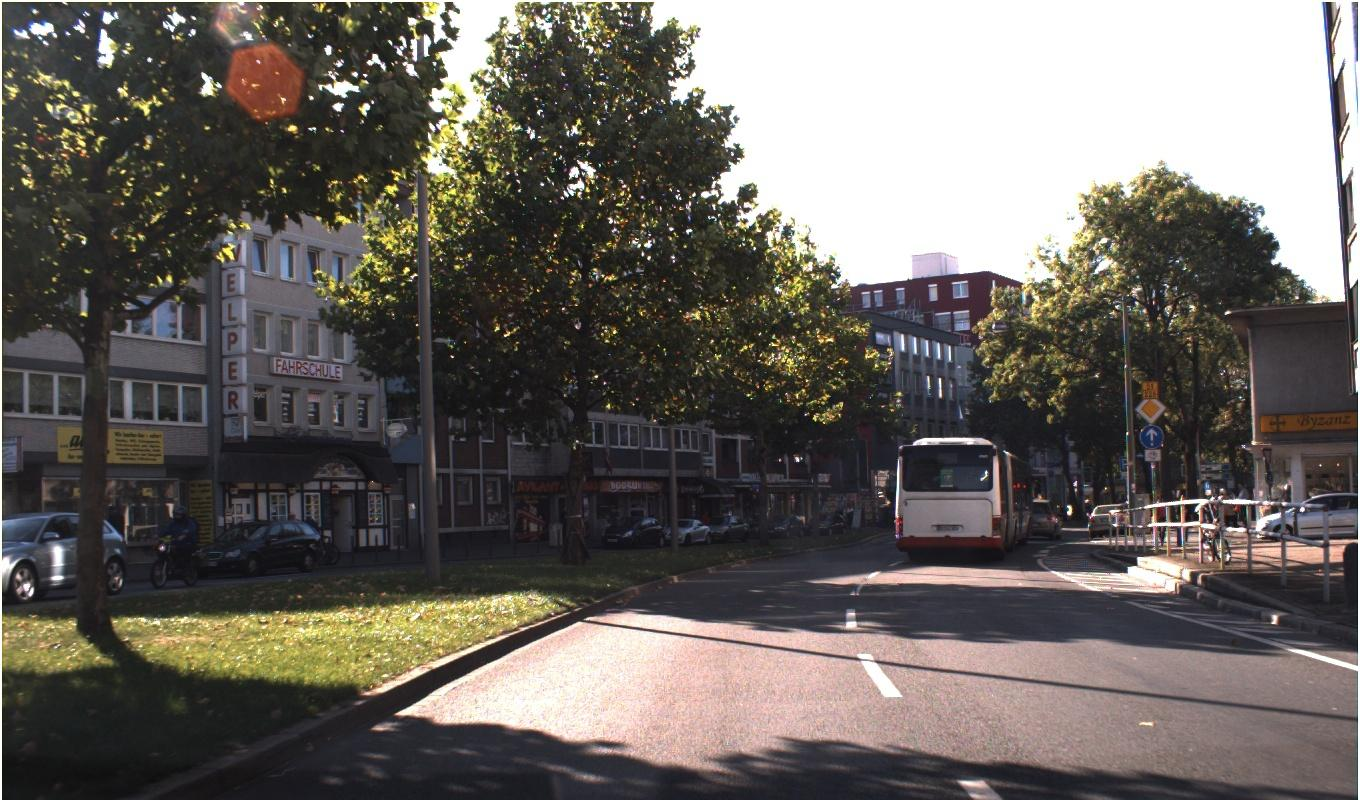priority road: (1133, 393, 1164, 450)
